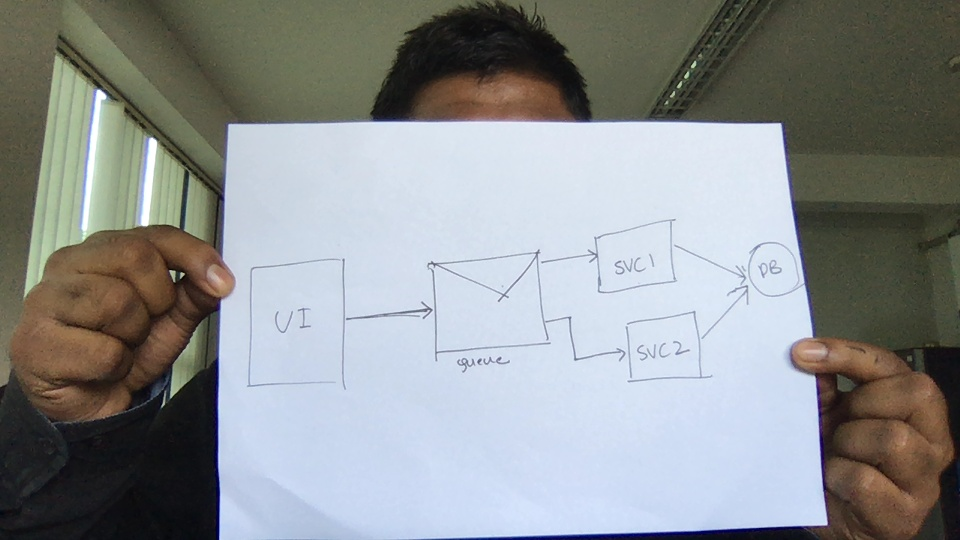db: (742, 239, 801, 301)
ec2: (590, 217, 682, 293), (619, 310, 711, 386)
sns: (427, 250, 554, 359)
ui: (245, 256, 349, 390)
